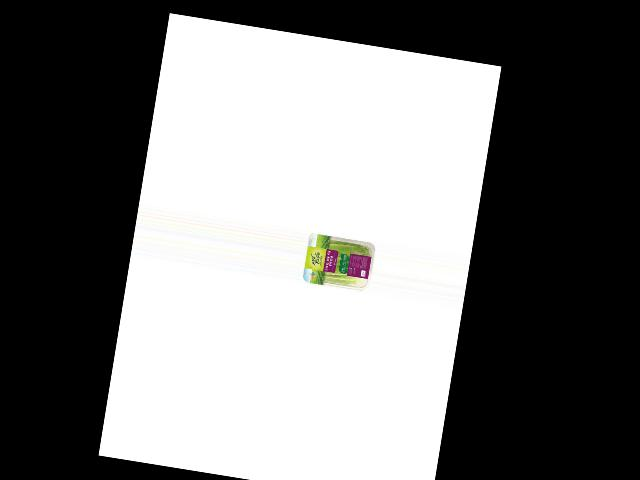lettuce: (306, 233, 376, 293)
